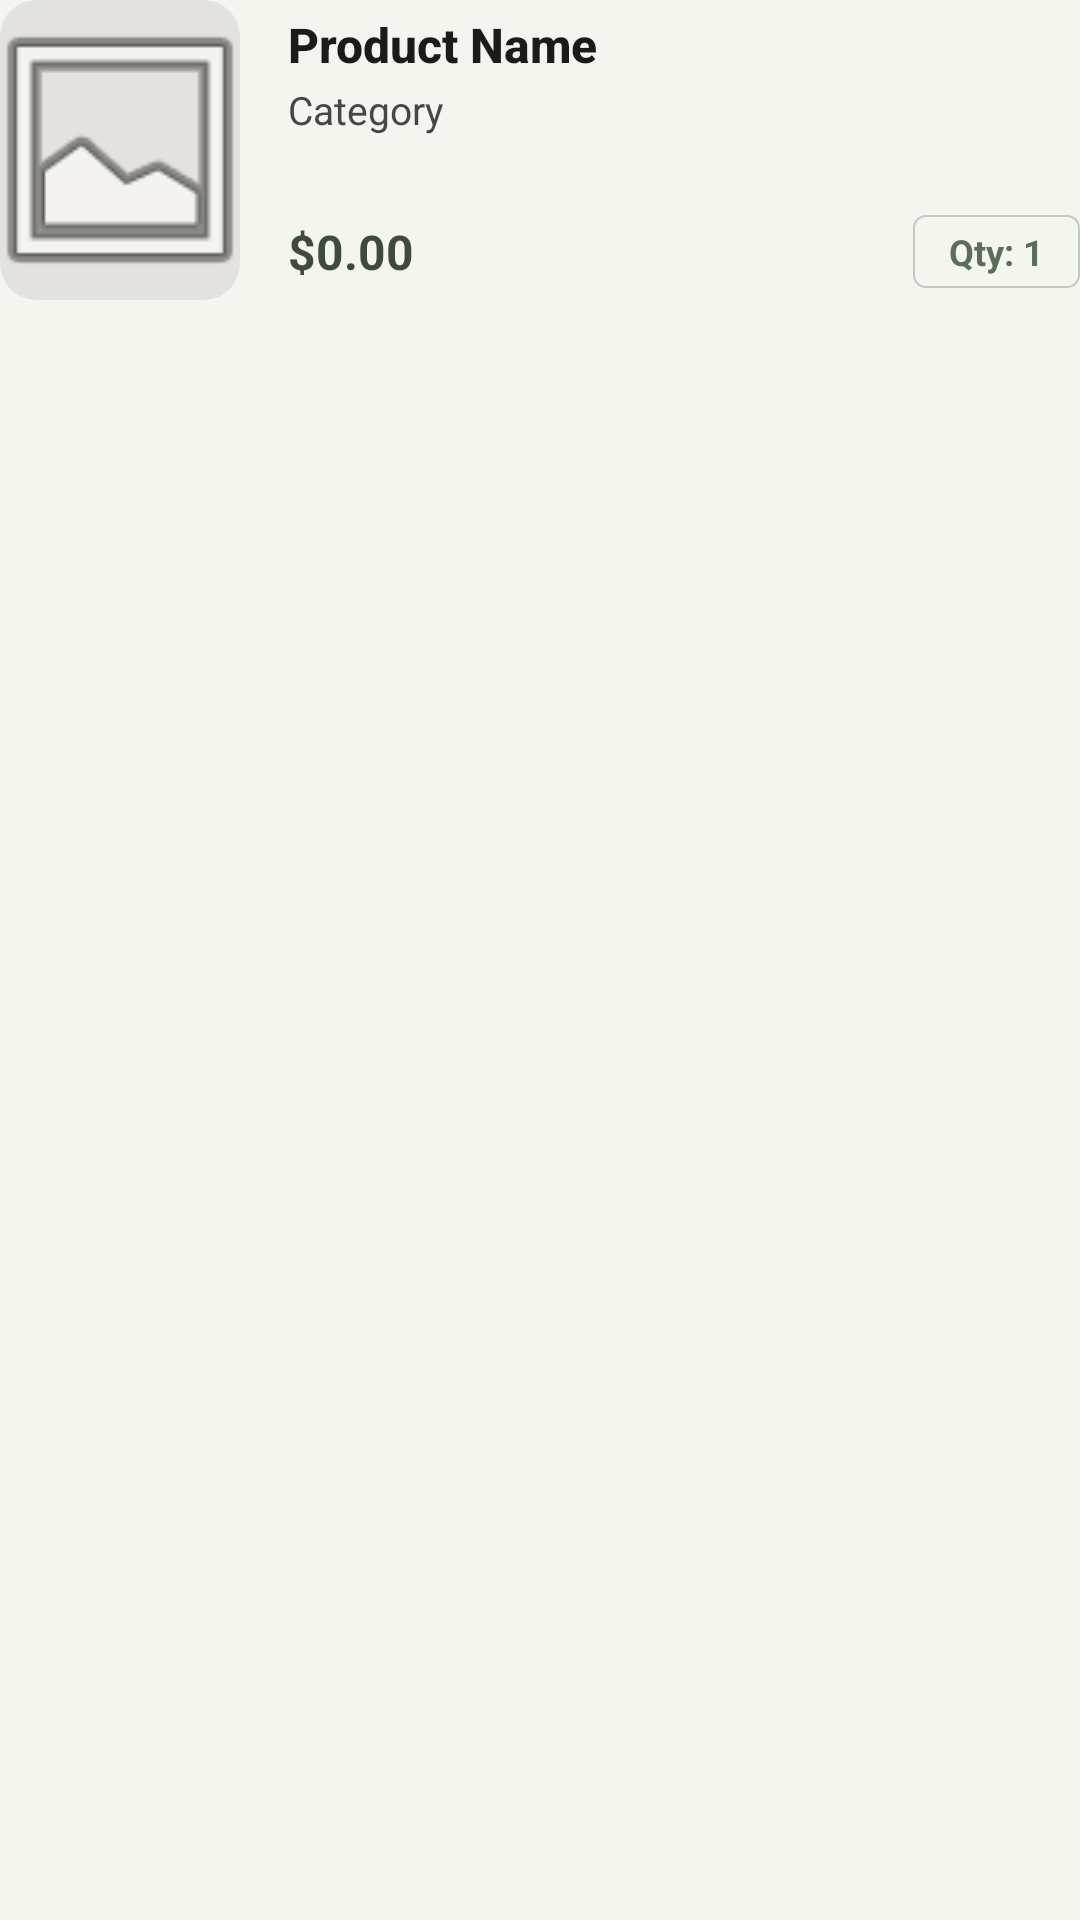

Icons on this 1080×1920 Android screen, each with its box as detection(x1, y1, x2, y2):
gallery: detection(0, 0, 240, 300)
